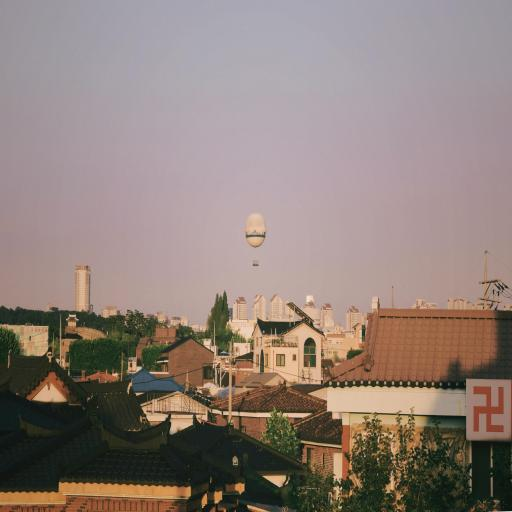hot air ballon: (243, 209, 268, 269)
